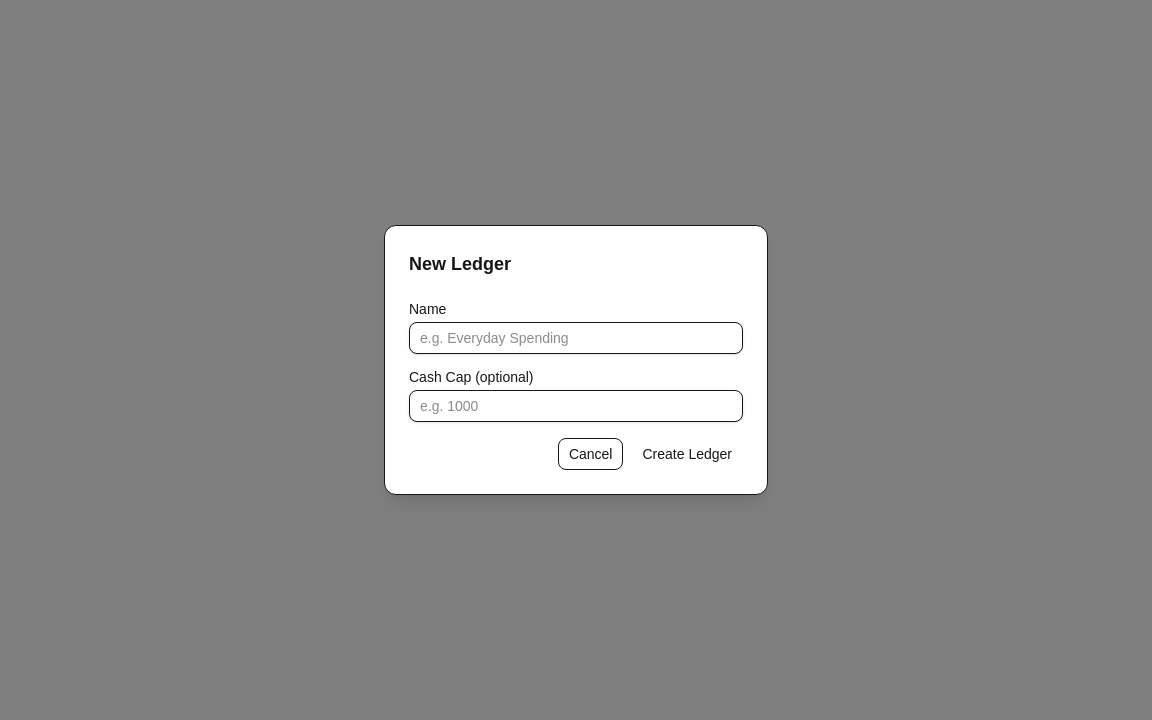
Scenario: CreateLedgerDialog › validation › shows cash cap invalid error when submitting with negative cash cap
Step 1. Type "Test Ledger" into the field labelled "Name" → (576, 338), box x1=409 y1=322 x2=743 y2=354
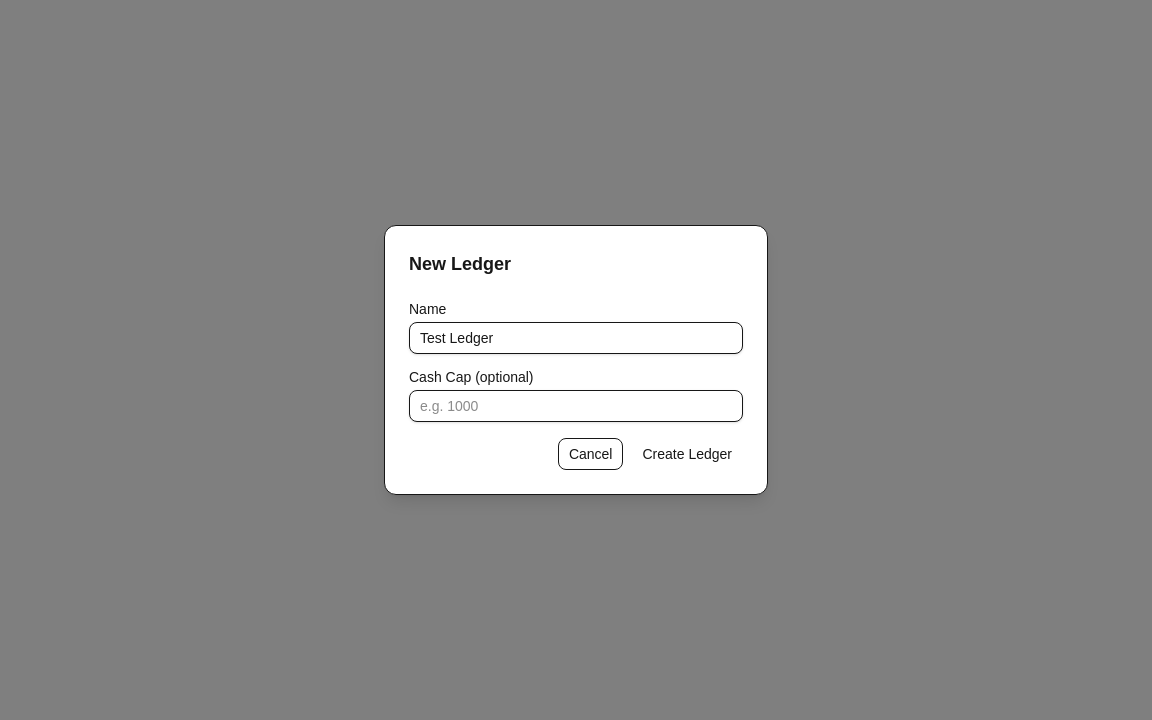
Step 2. Type "-100" into the number field labelled "Cash Cap (optional)" → (576, 406), box x1=409 y1=390 x2=743 y2=422
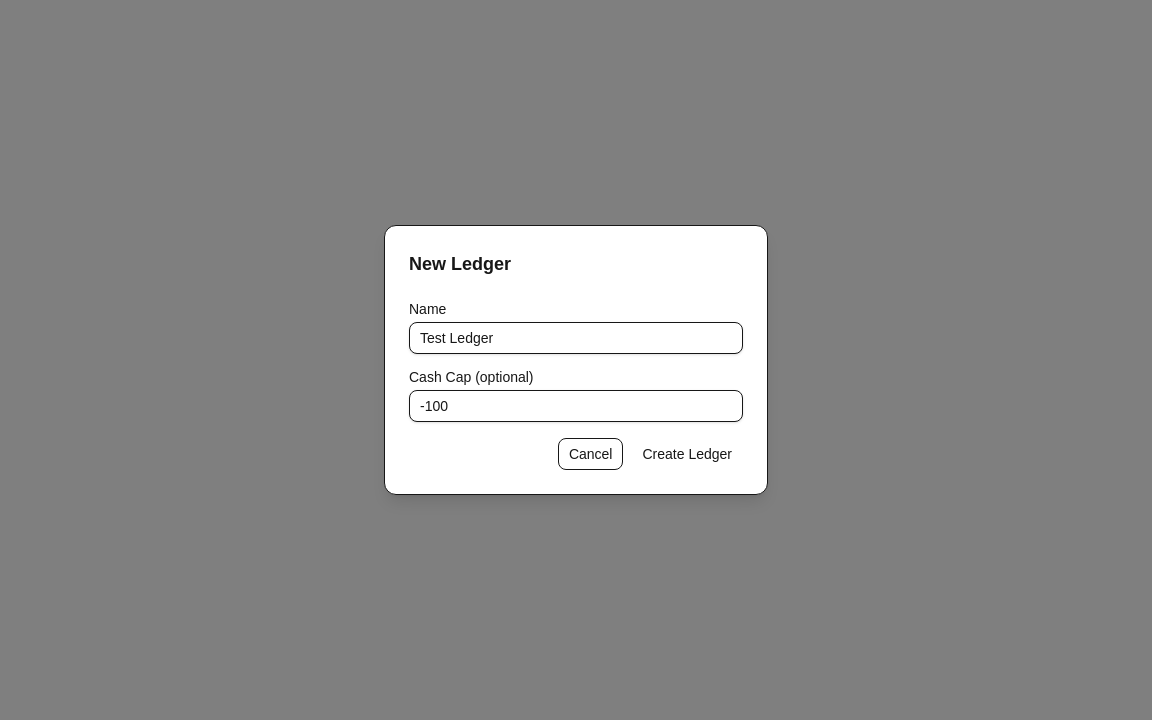
Step 3. Click the button "Create Ledger" → (687, 454), box x1=632 y1=438 x2=743 y2=470
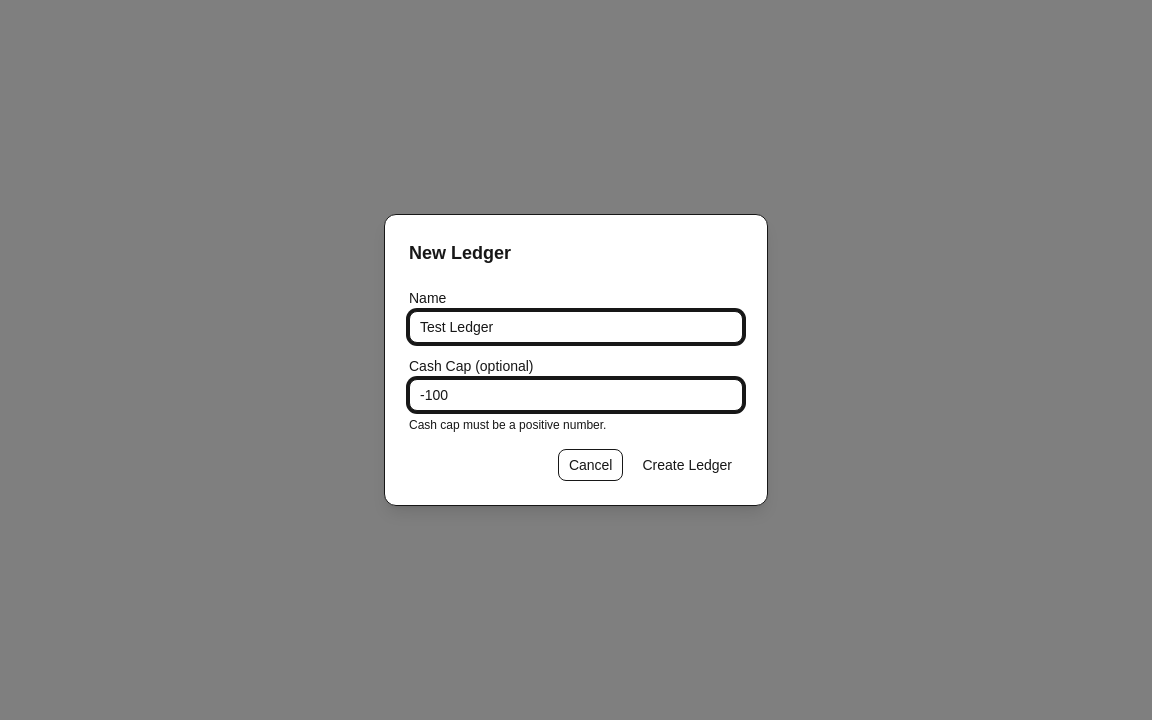
Result: the text "Cash cap must be a positive number." is shown at x1=409 y1=418 x2=606 y2=432
